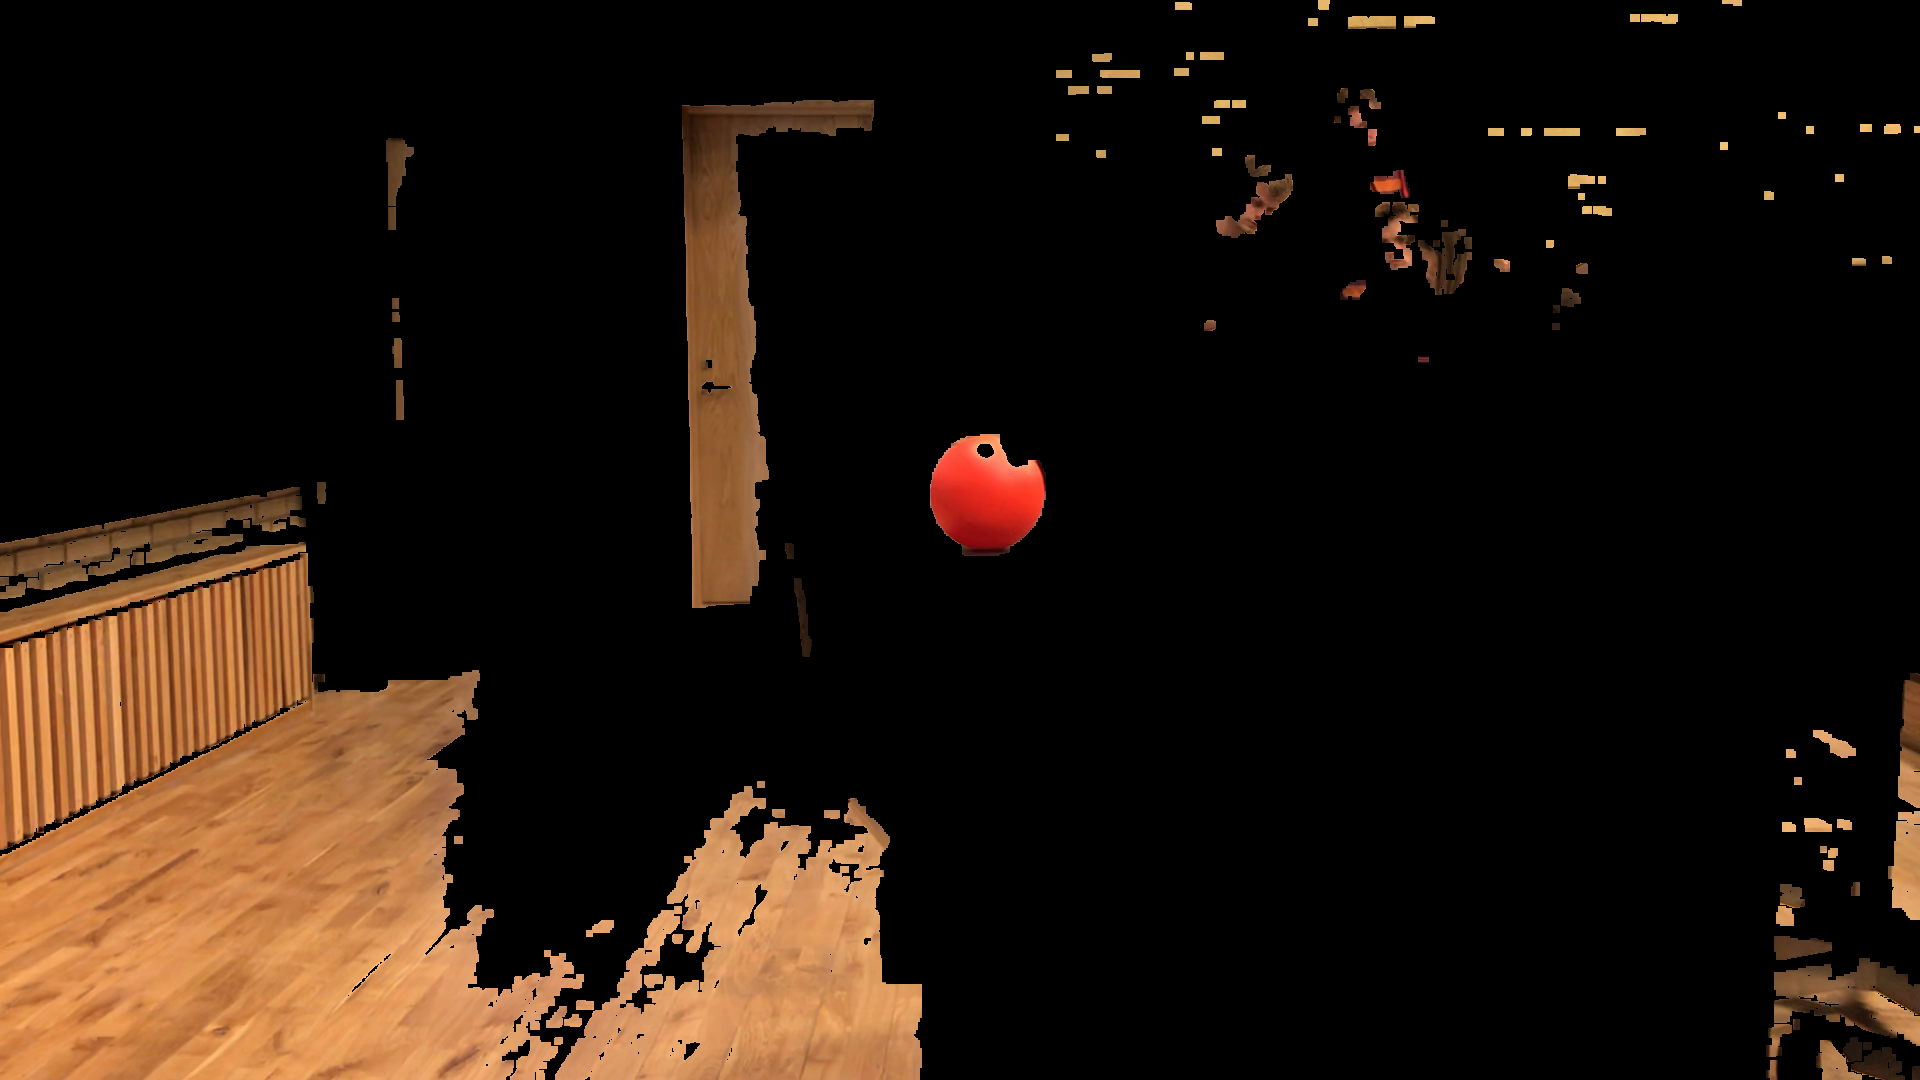Ball: (927, 434, 1058, 550)
